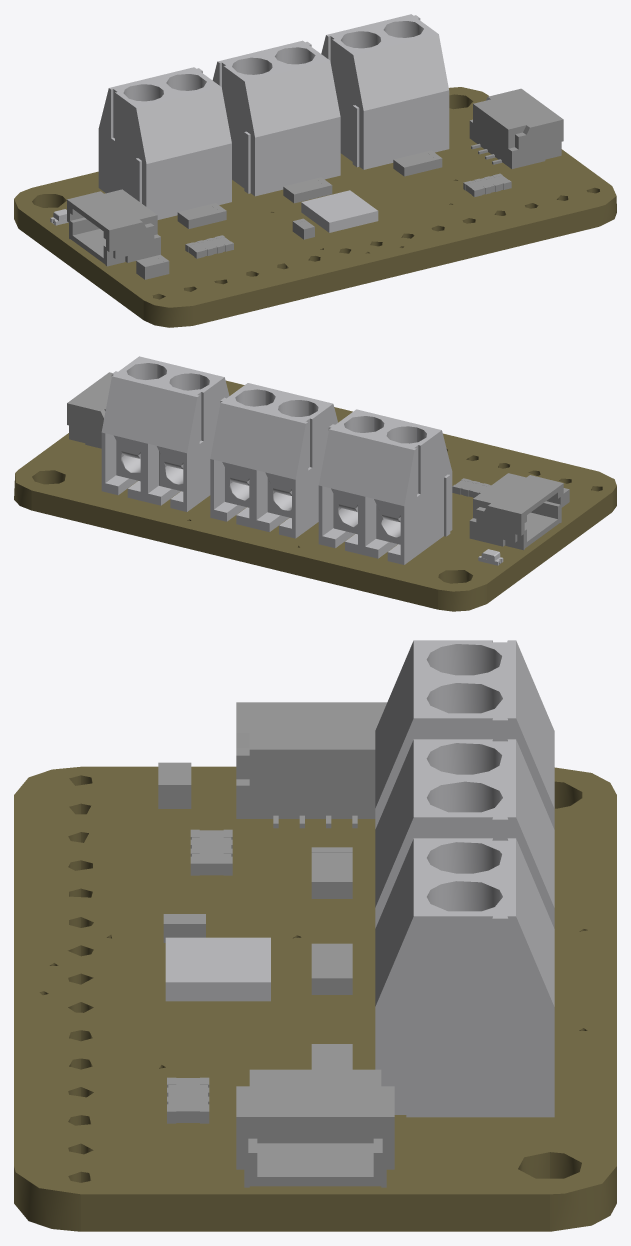
Rendered from ada-6062.glb.
3 views of the same model, one above another, from view 1: azimuth 30°, elevation 25°; view 2: azimuth 150°, elevation 25°; view 3: azimuth 270°, elevation 25° (orthographic). The views are drawn at different scales.
Visible parts, largest first — view 1: 0.16666666666666666_0.16666666666666666_0.08333333333333333_, 0.5833333333333334_0.5833333333333334_0.5833333333333334_0.8, 0.3333333333333333_0.3333333333333333_0.3333333333333333_0; view 2: 0.5833333333333334_0.5833333333333334_0.5833333333333334_0.8, 0.16666666666666666_0.16666666666666666_0.08333333333333333_, 0.3333333333333333_0.3333333333333333_0.3333333333333333_0; view 3: 0.16666666666666666_0.16666666666666666_0.08333333333333333_, 0.5833333333333334_0.5833333333333334_0.5833333333333334_0.8, 0.3333333333333333_0.3333333333333333_0.3333333333333333_0.
Boxes of the visible parts, x1,y1,x2,y2 form: 0.16666666666666666_0.16666666666666666_0.08333333333333333_: (14, 87, 616, 327); 0.5833333333333334_0.5833333333333334_0.5833333333333334_0.8: (50, 14, 449, 232); 0.3333333333333333_0.3333333333333333_0.3333333333333333_0: (67, 88, 563, 279); 0.5833333333333334_0.5833333333333334_0.5833333333333334_0.8: (101, 356, 503, 565); 0.16666666666666666_0.16666666666666666_0.08333333333333333_: (14, 380, 616, 611); 0.3333333333333333_0.3333333333333333_0.3333333333333333_0: (67, 372, 569, 550); 0.16666666666666666_0.16666666666666666_0.08333333333333333_: (14, 766, 616, 1231); 0.5833333333333334_0.5833333333333334_0.5833333333333334_0.8: (165, 640, 554, 1117); 0.3333333333333333_0.3333333333333333_0.3333333333333333_0: (158, 702, 394, 1187).
Size of the model in its own units: 3.84 by 1.19 by 2.29.
